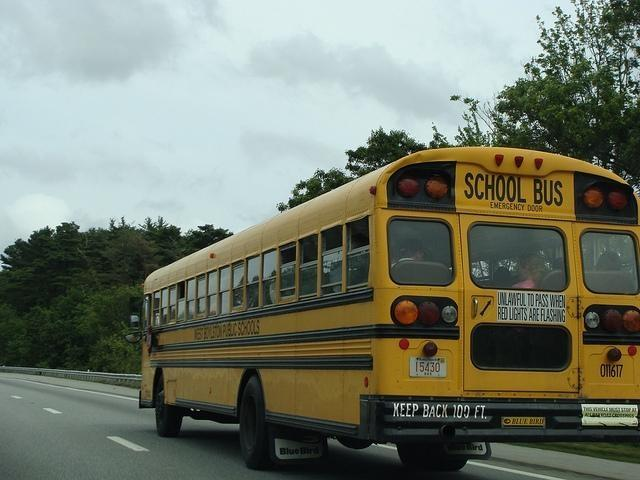bus: (129, 145, 640, 474)
